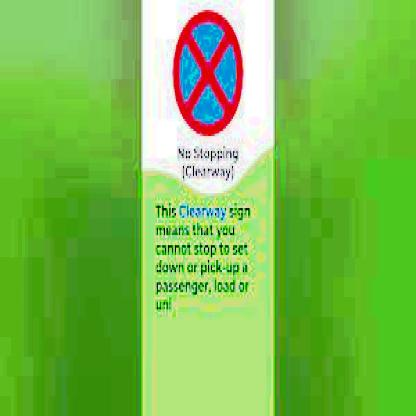No stopping: (174, 15, 246, 133)
